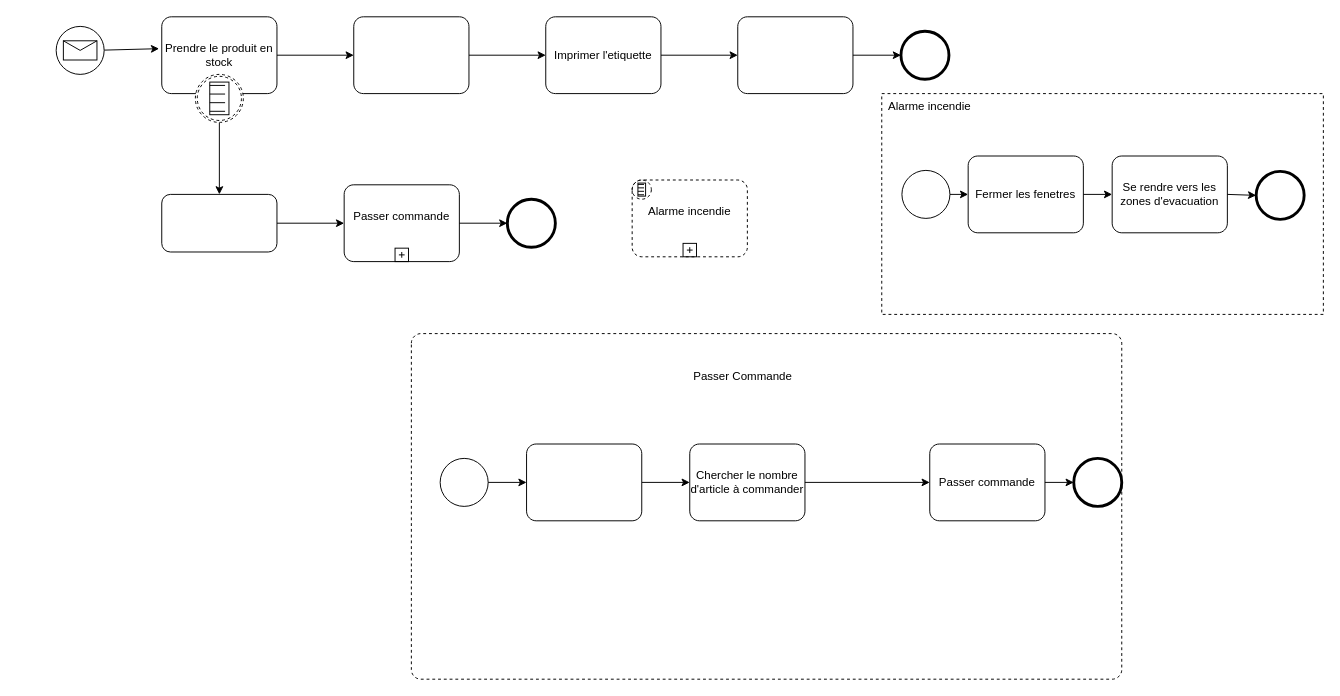
Image size: 1340x696. Some labels were removed from this diagram. Here are the shapes that lost their labels. From the top down, the centre of each, then its label:
[79,49]: Recevoir une commande
[411,55]: Placer le produit dans un carton
[795,55]: Placer le carton dans la zone "à expédié"
[219,222]: Prevenir le reponsable d'atelier
[584,482]: Chercher le fournisseur le moins cher
